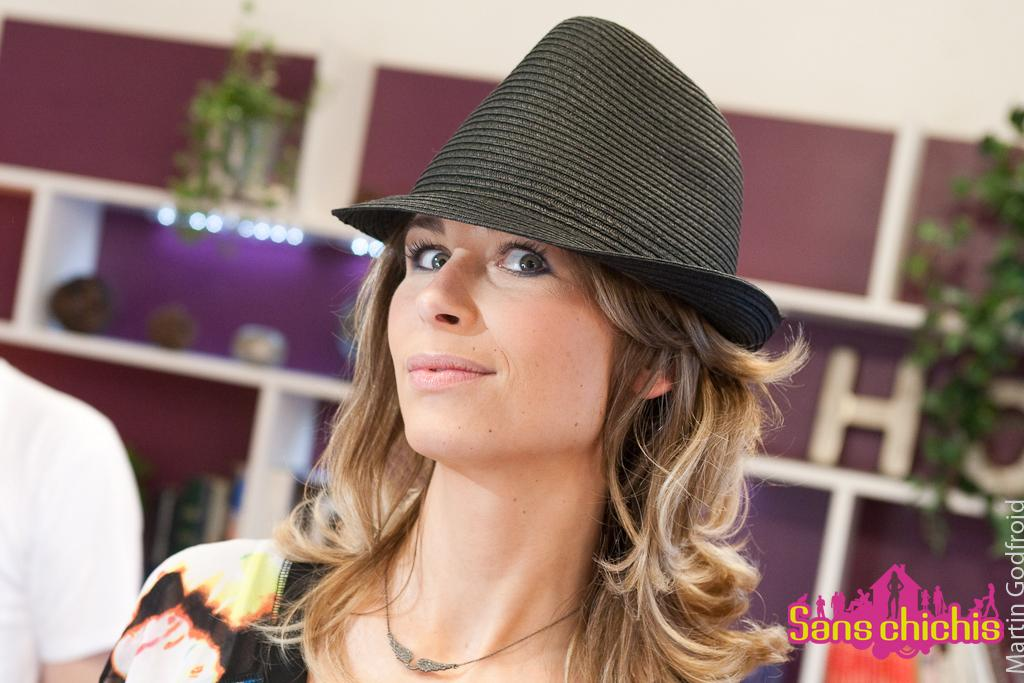Hat: (331, 12, 783, 350)
